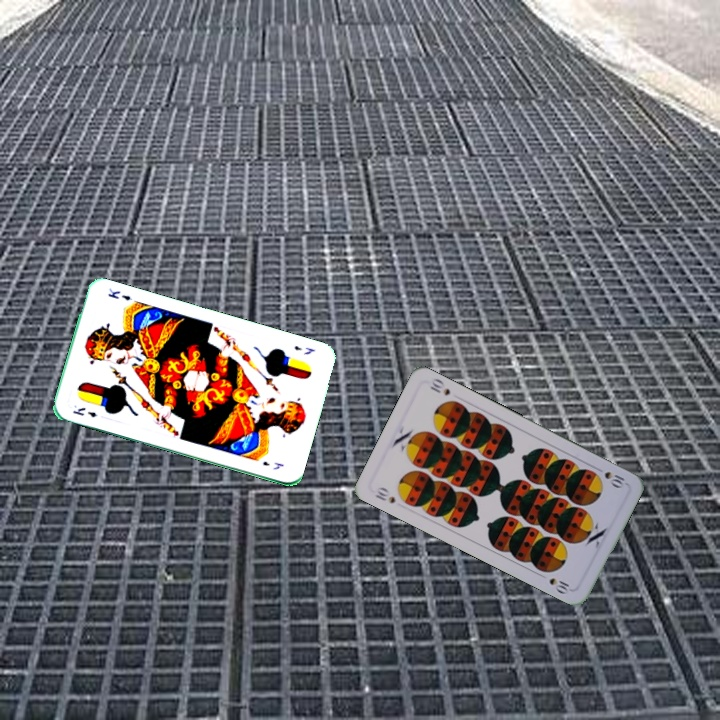EK: (69, 403, 99, 420), (290, 341, 318, 357)
S10: (600, 467, 629, 491), (371, 483, 398, 506)
